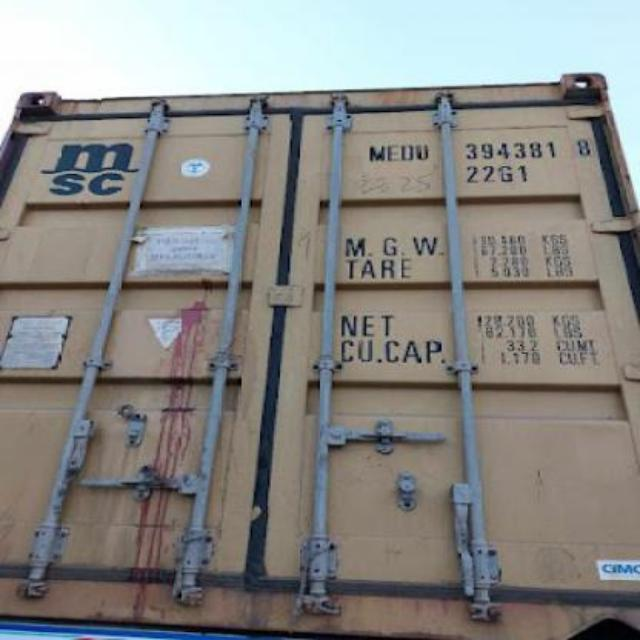1: (546, 139, 558, 159)
3: (466, 142, 478, 164), (514, 141, 526, 159)
4: (496, 143, 509, 159)
8: (530, 139, 544, 157), (578, 140, 592, 156)
9: (482, 143, 496, 159)
D: (402, 144, 414, 162)
E: (386, 144, 399, 162)
M: (371, 146, 384, 162)
U: (414, 144, 430, 160)
